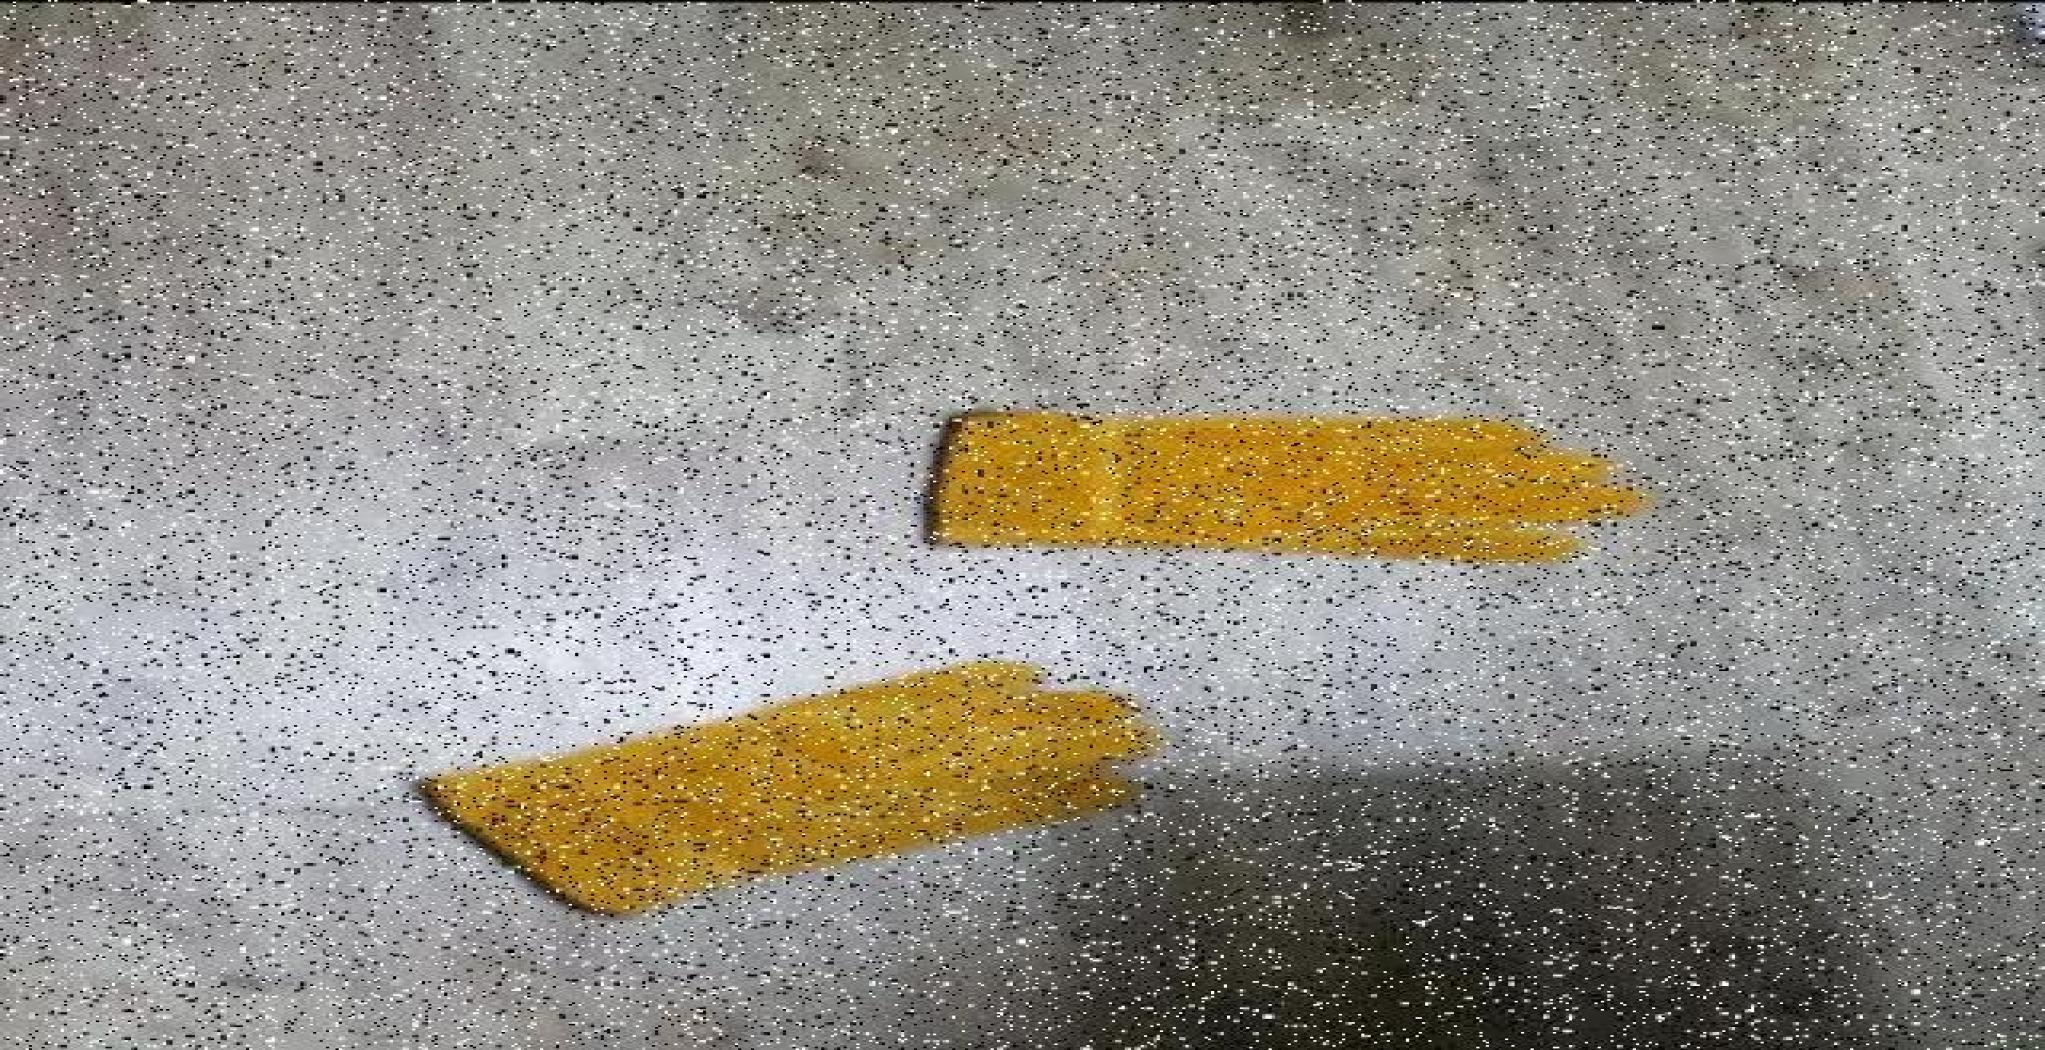gloved: (395, 656, 1189, 899), (956, 399, 1647, 569)
